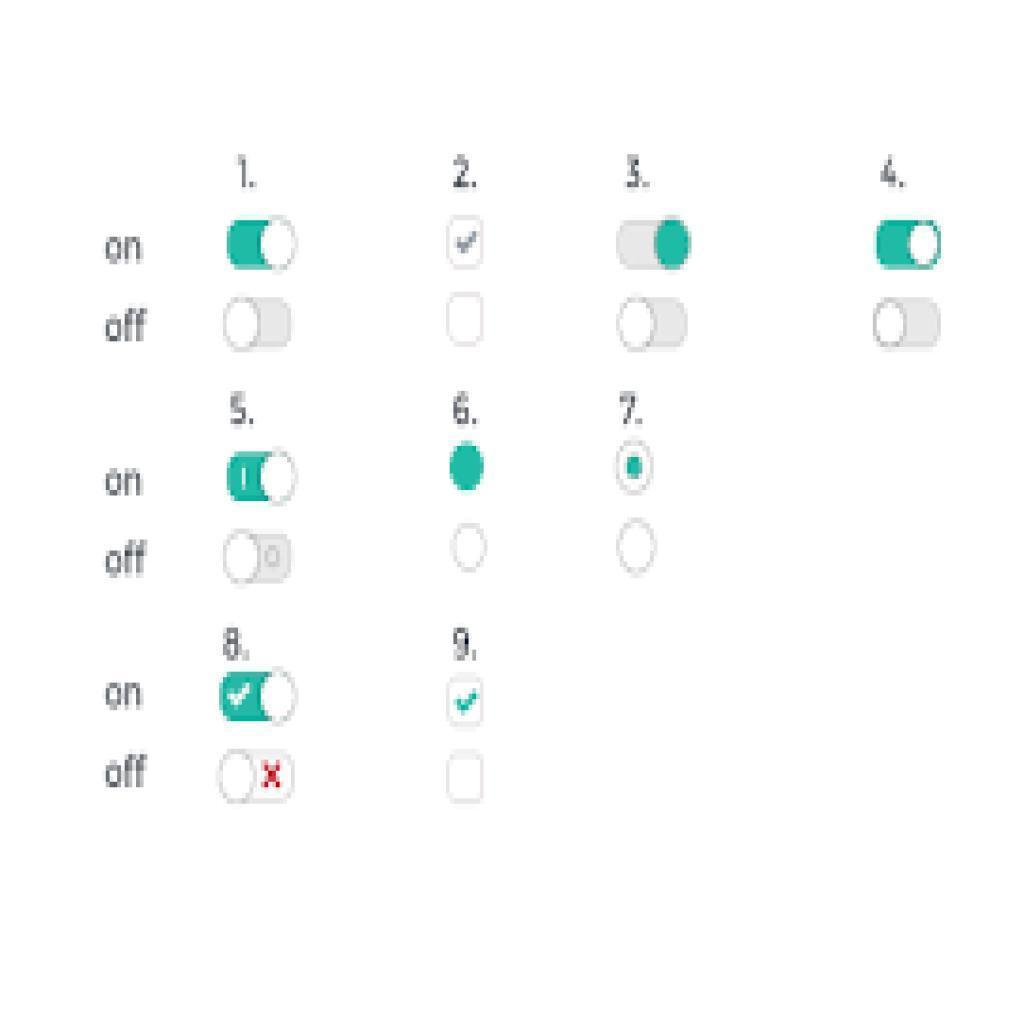checkbox: (447, 216, 483, 270), (447, 293, 483, 344), (445, 753, 482, 802), (448, 678, 484, 724)
label: (101, 301, 151, 355), (101, 539, 160, 584), (96, 228, 150, 275), (96, 749, 154, 791), (101, 676, 147, 722), (103, 462, 147, 503)
radio: (614, 518, 658, 577), (613, 440, 657, 497), (451, 522, 486, 577), (449, 441, 484, 492)
switch: (215, 747, 294, 805), (219, 669, 300, 721), (617, 296, 689, 350), (226, 450, 295, 504), (619, 218, 691, 268), (223, 532, 292, 584), (872, 298, 941, 349), (224, 298, 292, 349), (228, 220, 298, 269), (875, 221, 943, 271)
